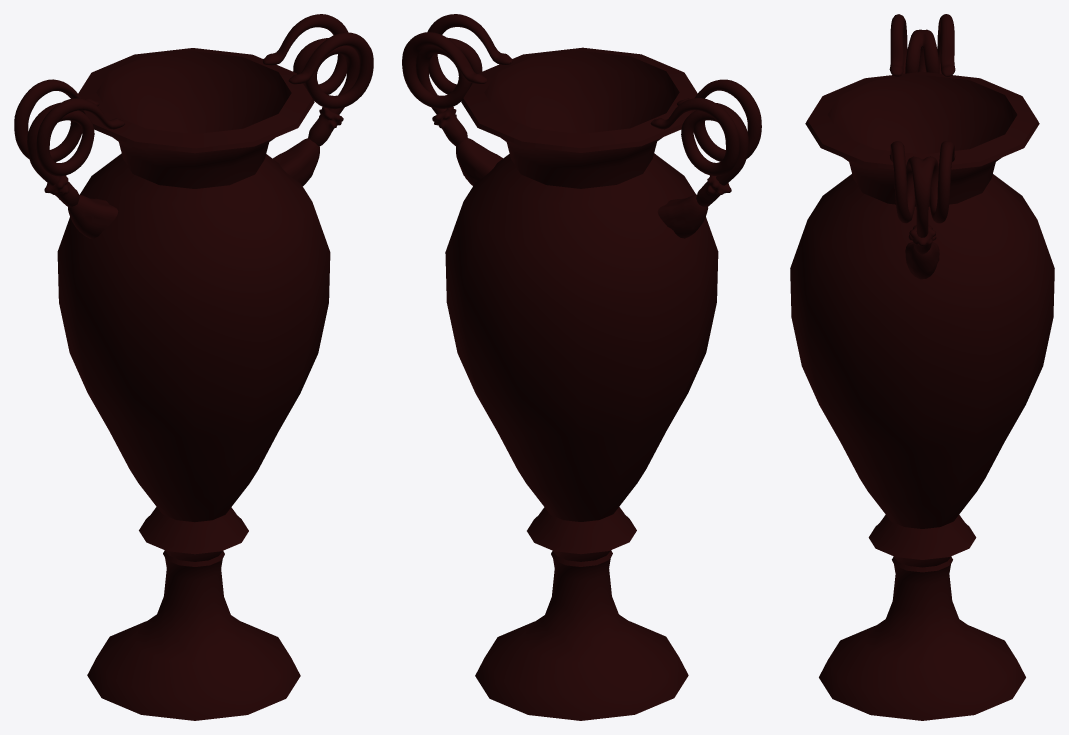
The model's file is TOB_Vase_LP.fbx.
3 renders of one model, left to right at view 1: azimuth 30°, elevation 25°; view 2: azimuth 150°, elevation 25°; view 3: azimuth 270°, elevation 25°, orthographic. The views are drawn at different scales.
Visible parts, largest first — view 1: Vase_lp, snake_lp, bottom_lp, flower_lp; view 2: Vase_lp, snake_lp, bottom_lp, flower_lp; view 3: Vase_lp, snake_lp, bottom_lp, flower_lp.
Part boxes in pixels (<box>): Vase_lp: <box>57,48,330,720</box>; snake_lp: <box>14,14,373,185</box>; bottom_lp: <box>68,138,319,238</box>; flower_lp: <box>44,107,343,207</box>; Vase_lp: <box>445,47,718,720</box>; snake_lp: <box>402,14,761,185</box>; bottom_lp: <box>456,138,708,238</box>; flower_lp: <box>432,107,731,206</box>; Vase_lp: <box>790,71,1054,720</box>; snake_lp: <box>889,14,955,237</box>; bottom_lp: <box>905,242,939,279</box>; flower_lp: <box>908,225,936,254</box>.
Size of the model in its own units: 19.91 by 35.02 by 14.07.
